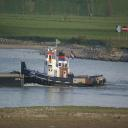tugboat: (21, 45, 109, 92)
